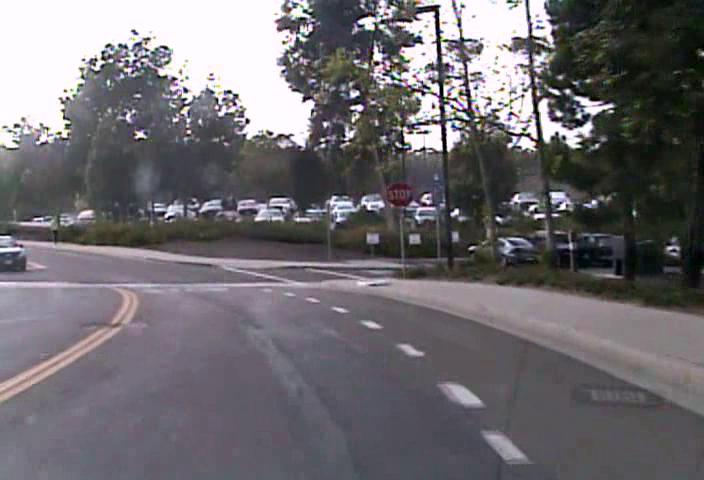stop: (384, 180, 414, 209)
